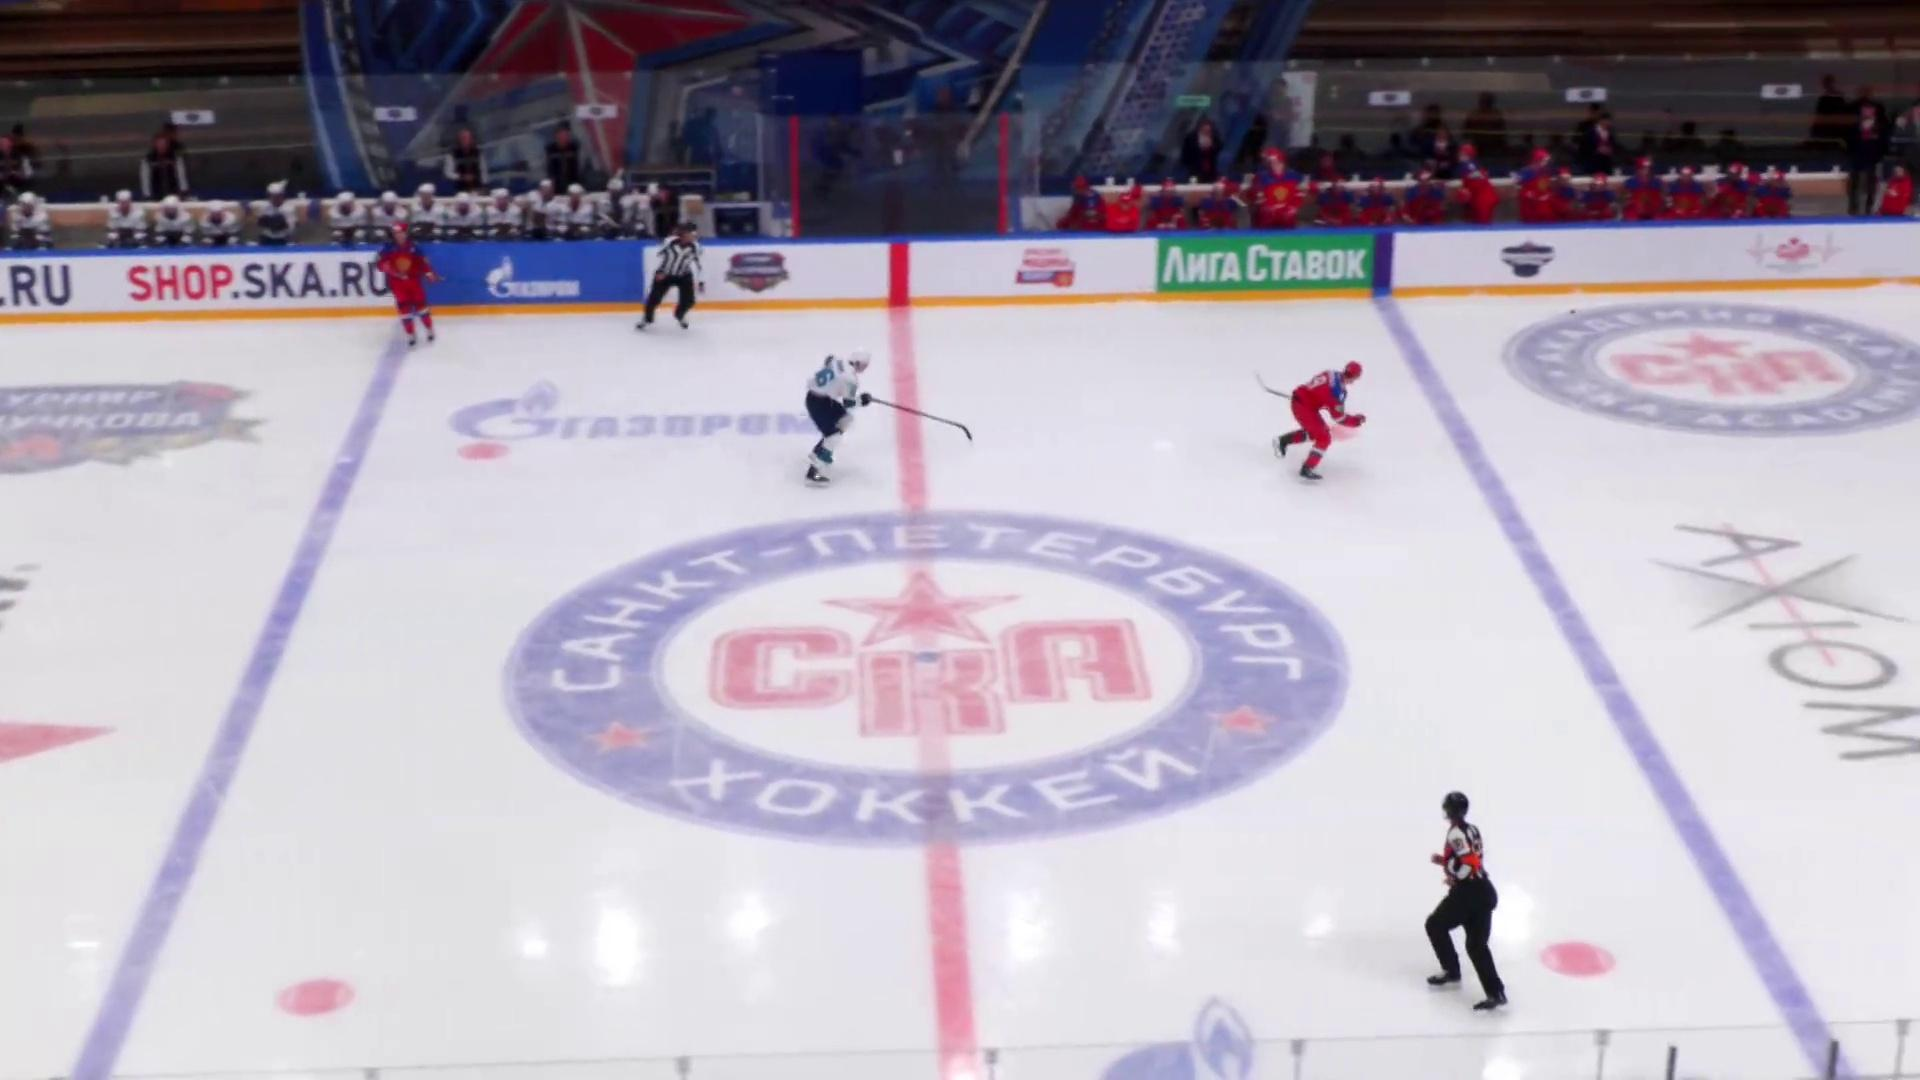ball: (1569, 309, 1576, 314)
